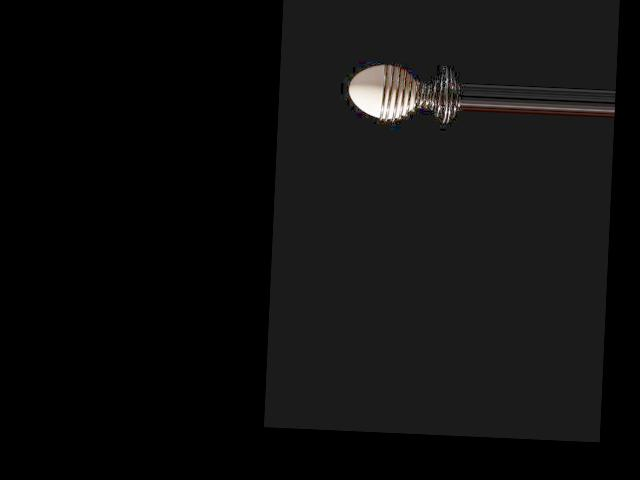egg: (347, 64, 417, 120)
